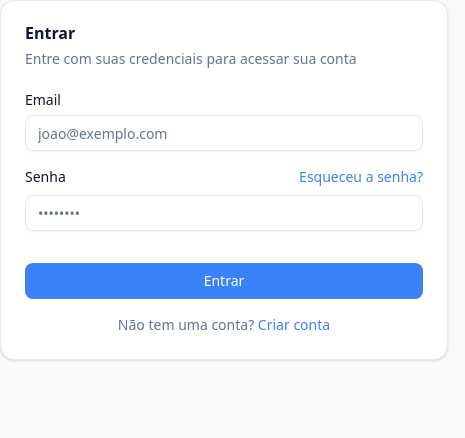
Test: SignInForm › deve exibir mensagem de erro quando o login falha
Type "test@example.com" into the field labelled "Email" at (224, 133), box [25,115,423,151]
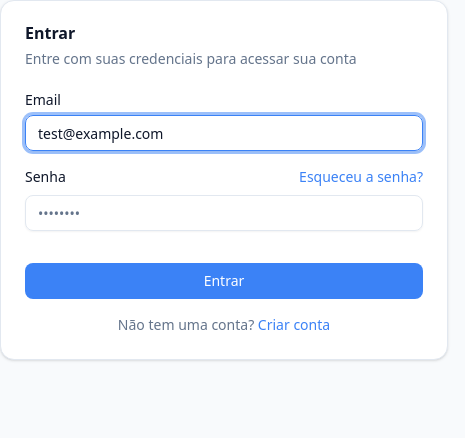
Type "wrongpassword" into the password field labelled "Senha" at (224, 213), box [25,195,423,231]
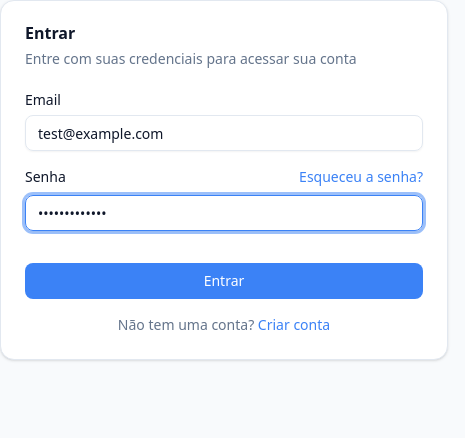
Click the button "Entrar" at (224, 281), box [25,263,423,299]
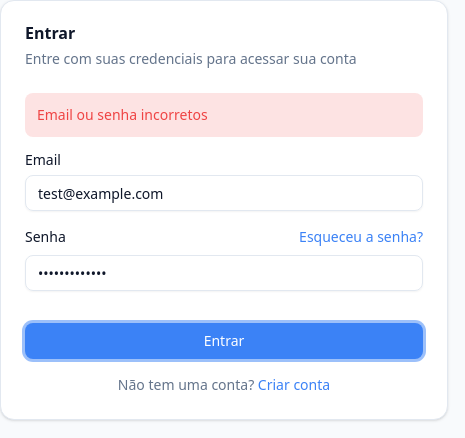
Result: the text "Email ou senha incorretos" is shown at [25,93,423,137]
